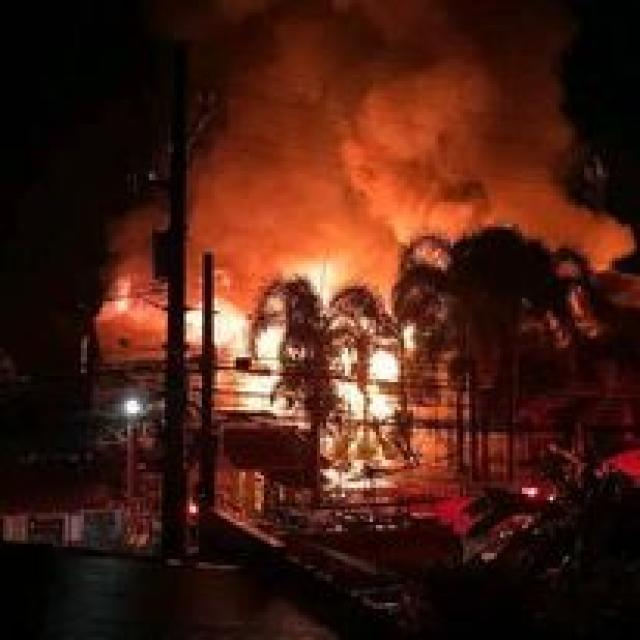Smoke: (247, 20, 639, 282), (213, 272, 397, 419)
